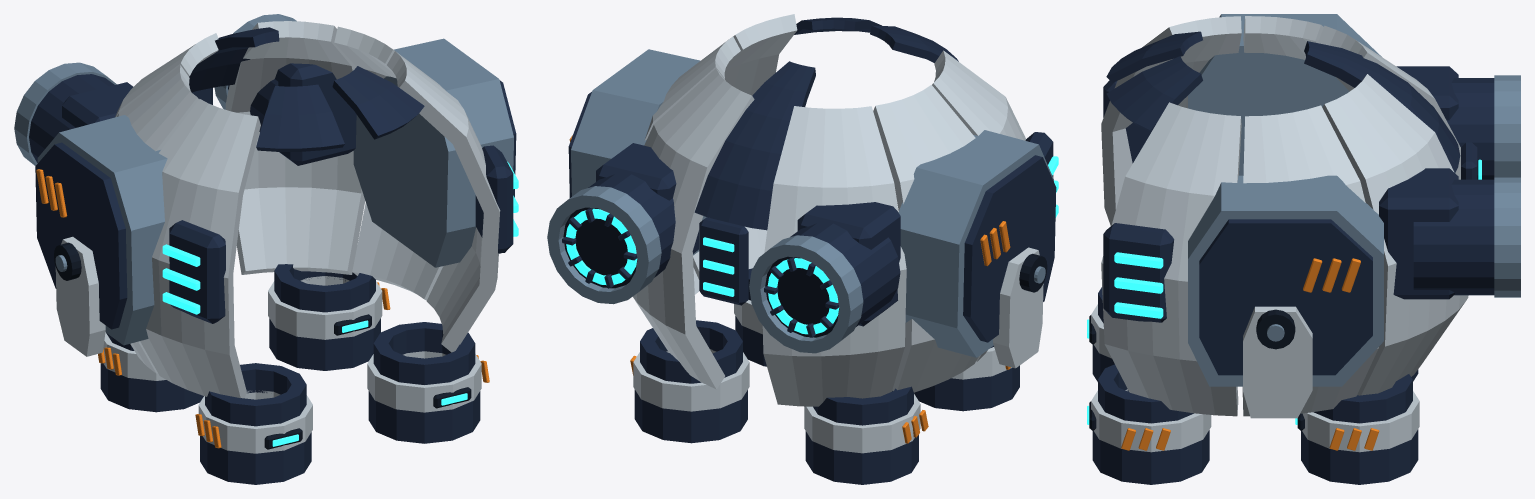
File: mechaplayer-arcade-v2-accessories.fbx
3 renders of one model, left to right at view 1: azimuth 30°, elevation 25°; view 2: azimuth 150°, elevation 25°; view 3: azimuth 270°, elevation 25°, orthographic. The views are drawn at different scales.
Visible parts, largest first — view 1: MechShell_1_2, MechShoulderFrame_1, MechShell_-1_0, MechShoulderFrame_-1, MechShell_1_0, MechShoulderNavy_-1, MechShell_1_1, MechBootUpper_1_0, MechBrow_-1, MechBootUpper_-1_0, MechVentRecess_-1, MechShell_-1_1 (+21 smaller); view 2: MechShell_-1_2, MechShoulderFrame_-1, MechShell_1_2, MechDorsalSpine, MechShoulderNavy_-1, MechShell_-1_1, MechShoulderFrame_1, MechThrusterLip_-1, MechThrusterLip_1, MechShell_1_0, MechShell_-1_0, MechLowerGuard_-1 (+25 smaller); view 3: MechShell_1_0, MechShoulderNavy_1, MechShell_1_2, MechShoulderFrame_1, MechShoulderFrame_-1, MechShell_1_1, MechThrusterBody_1, MechLowerGuard_1, MechThrusterMount_1, MechShell_-1_0, MechVentRecess_1, MechDorsalSpine (+21 smaller).
Boxes of the visible parts, x1,y1,x2,y2 form: MechShell_1_2: [225, 21, 365, 274]; MechShoulderFrame_1: [353, 38, 513, 267]; MechShell_-1_0: [140, 99, 260, 398]; MechShoulderFrame_-1: [37, 115, 167, 345]; MechShell_1_0: [387, 51, 500, 352]; MechShoulderNavy_-1: [35, 142, 127, 329]; MechShell_1_1: [334, 26, 443, 300]; MechBootUpper_1_0: [373, 322, 475, 384]; MechBrow_-1: [256, 84, 344, 151]; MechBootUpper_-1_0: [205, 363, 306, 426]; MechVentRecess_-1: [169, 220, 225, 323]; MechShell_-1_1: [117, 65, 198, 373]; MechShell_-1_2: [762, 106, 906, 406]; MechShoulderFrame_-1: [898, 130, 1053, 357]; MechShell_1_2: [633, 68, 754, 389]; MechDorsalSpine: [694, 61, 815, 230]; MechShoulderNavy_-1: [963, 155, 1056, 342]; MechShell_-1_1: [873, 85, 978, 392]; MechShoulderFrame_1: [571, 49, 706, 255]; MechThrusterLip_-1: [749, 235, 863, 353]; MechThrusterLip_1: [547, 186, 661, 304]; MechShell_1_0: [693, 14, 797, 279]; MechShell_-1_0: [932, 50, 1025, 361]; MechLowerGuard_-1: [993, 247, 1043, 368]; MechShell_1_0: [1101, 102, 1241, 416]; MechShoulderNavy_1: [1199, 219, 1372, 375]; MechShell_1_2: [1322, 74, 1468, 395]; MechShoulderFrame_1: [1188, 175, 1383, 386]; MechShoulderFrame_-1: [1188, 14, 1381, 175]; MechShell_1_1: [1242, 105, 1378, 416]; MechThrusterBody_1: [1413, 179, 1494, 295]; MechLowerGuard_1: [1243, 306, 1312, 418]; MechThrusterMount_1: [1379, 168, 1458, 299]; MechShell_-1_0: [1101, 16, 1241, 225]; MechVentRecess_1: [1103, 223, 1174, 322]; MechDorsalSpine: [1304, 41, 1460, 172].
Bounding box in the file's own units: 1573 × 1198 × 1274.
